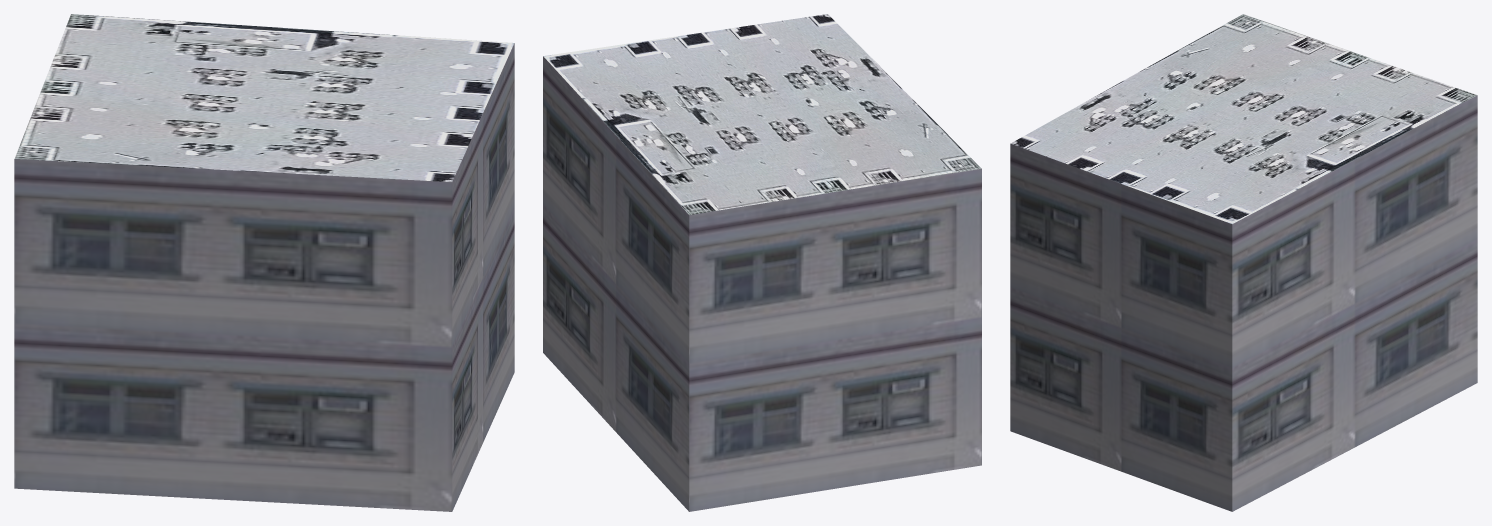
File: ResTex__4283.fbx
3 views of the same model, side by side, from view 1: azimuth 30°, elevation 25°; view 2: azimuth 150°, elevation 25°; view 3: azimuth 270°, elevation 25° (orthographic). The views are drawn at different scales.
Parts seen in each view (by area): view 1: CityEngineMaterial_1_m, CityEngineMaterial_m; view 2: CityEngineMaterial_1_m, CityEngineMaterial_m; view 3: CityEngineMaterial_1_m, CityEngineMaterial_m.
Part boxes in pixels (bbox=[...]): CityEngineMaterial_1_m: bbox=[14, 43, 514, 511]; CityEngineMaterial_m: bbox=[14, 14, 514, 181]; CityEngineMaterial_1_m: bbox=[543, 56, 981, 511]; CityEngineMaterial_m: bbox=[543, 14, 981, 214]; CityEngineMaterial_1_m: bbox=[1010, 95, 1477, 511]; CityEngineMaterial_m: bbox=[1011, 14, 1476, 223].
Size of the model in its own units: 9.4 by 6 by 8.82.
Materials: 2 (2 with a texture image).
